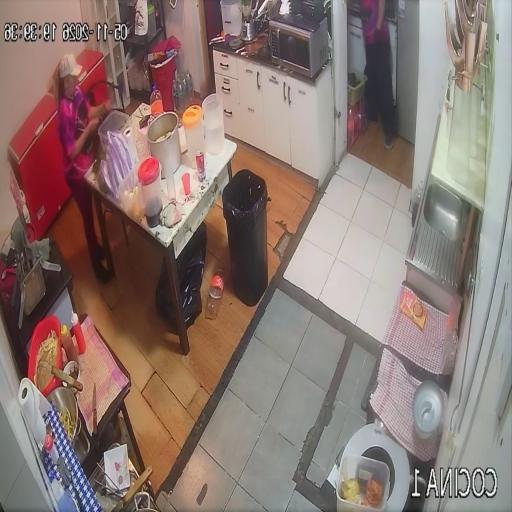Basurero: (222, 171, 267, 307)
Cuchillo1: (92, 380, 97, 433)
Envase Llajua: (61, 326, 77, 362)
Envase salsa: (71, 313, 86, 354)
Jarra1: (138, 157, 162, 228)
Jarra2: (182, 105, 204, 167)
Jarra3: (202, 93, 225, 154)
Microondas: (270, 18, 329, 76)
Persona1: (360, 0, 397, 148)
Persona2: (55, 54, 110, 280)
Tapa de olla: (413, 381, 444, 439)
Taper: (336, 452, 390, 512)
Taper2: (100, 110, 131, 151)
Taper4: (117, 163, 144, 221)
Vaso1: (182, 173, 190, 195)
botella: (150, 89, 167, 117)
olla1: (147, 112, 182, 179)
